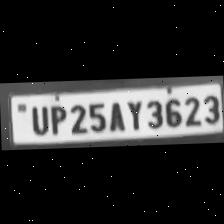2: (180, 92, 202, 126), (66, 100, 86, 134)
3: (200, 90, 220, 124), (143, 95, 163, 128)
5: (84, 97, 106, 132)
6: (162, 93, 180, 126)
A: (105, 97, 125, 131)
P: (46, 100, 66, 134)
U: (26, 101, 48, 134)
Y: (123, 96, 143, 130)
